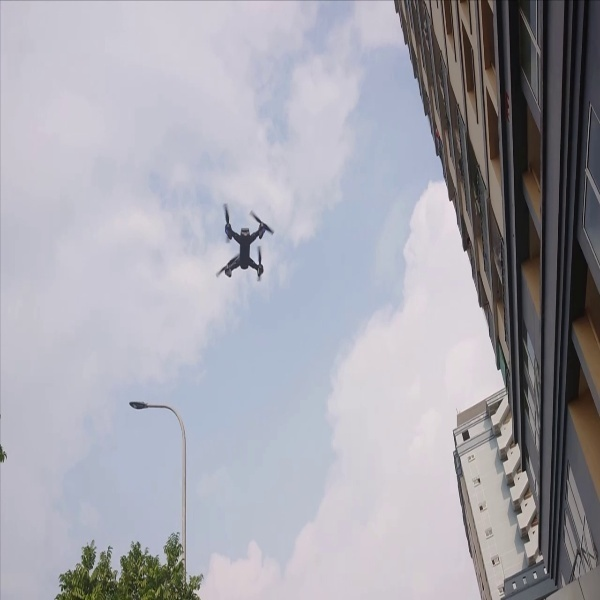drone: (202, 194, 286, 288)
